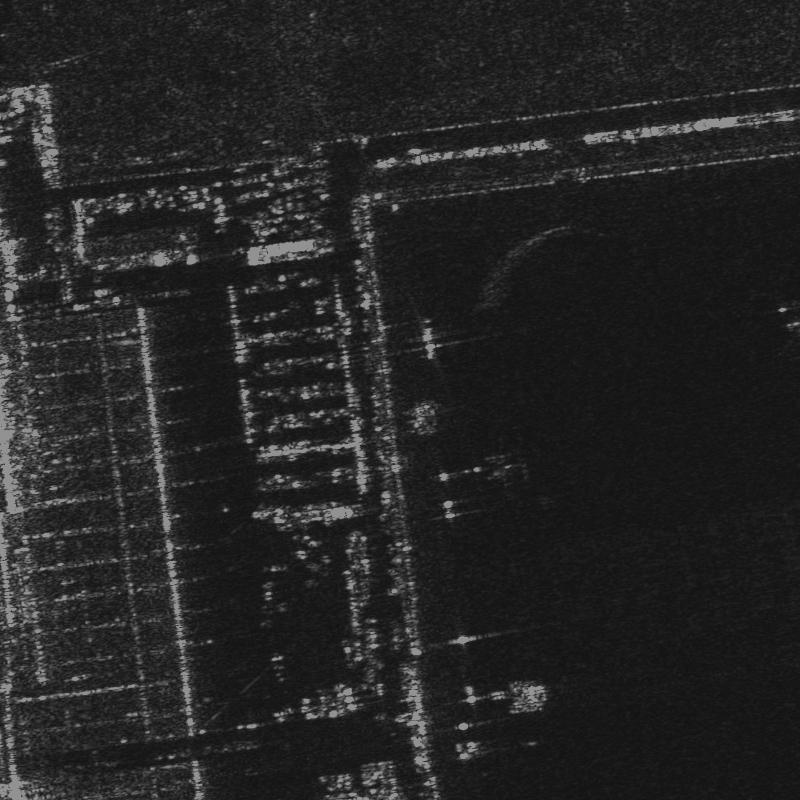A220: (768, 303, 799, 361)
